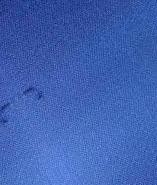knot: (20, 85, 47, 105), (0, 101, 12, 126)
